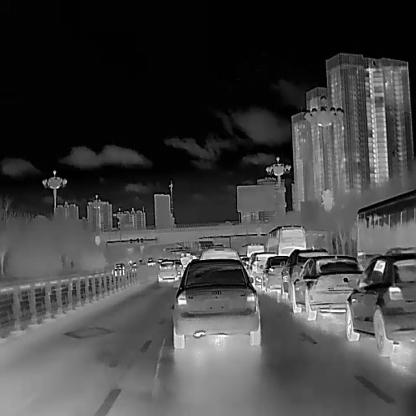bus: (348, 188, 416, 270), (265, 224, 306, 260), (246, 242, 264, 258)
car: (170, 256, 261, 348), (344, 251, 415, 356), (290, 253, 368, 321), (279, 246, 330, 299), (258, 255, 293, 292), (247, 251, 278, 288), (199, 244, 242, 261), (156, 258, 178, 282), (172, 258, 185, 276), (110, 262, 126, 276)
